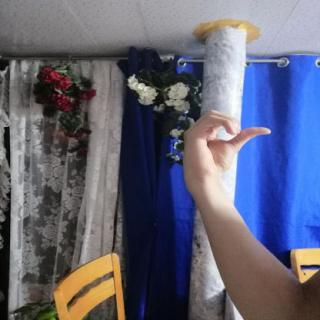WAW: (174, 104, 280, 199)
